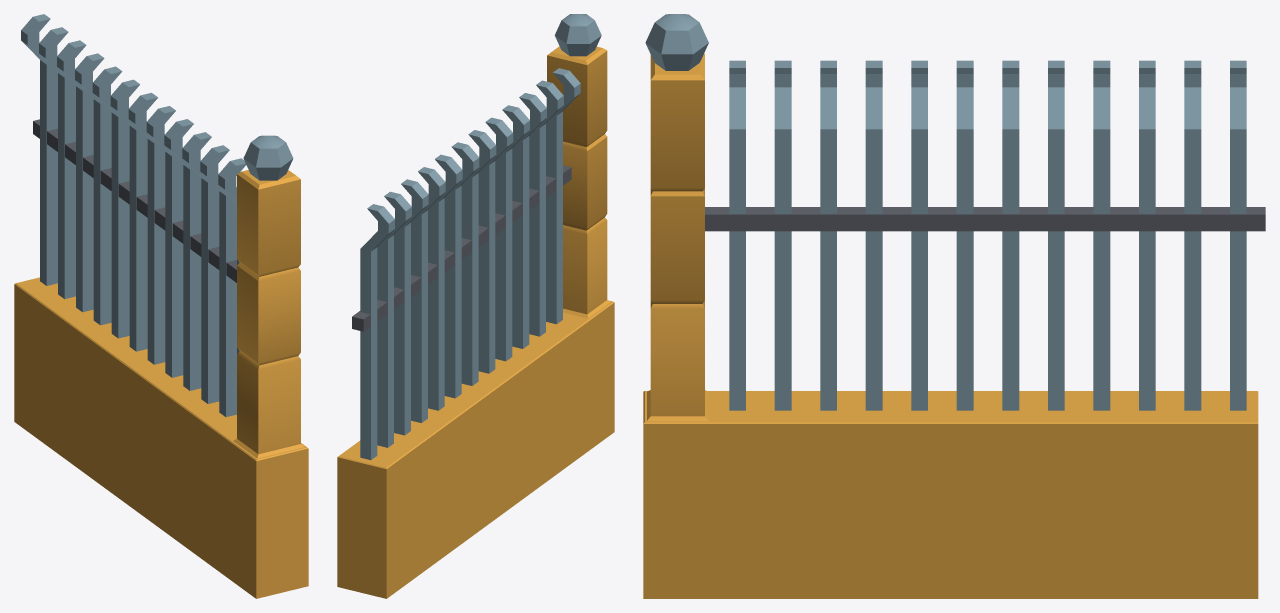
Rendered from metalFence.fbx.
The picture shows the model from 3 angles, left to right: view 1: azimuth 30°, elevation 25°; view 2: azimuth 150°, elevation 25°; view 3: azimuth 270°, elevation 25°; orthographic projection. The views are drawn at different scales.
Visible parts, largest first — view 1: Cube.027, Cube.028, Cube.029, Sphere.003; view 2: Cube.027, Cube.028, Cube.029, Sphere.003; view 3: Cube.027, Cube.028, Cube.029, Sphere.003.
Boxes of the visible parts, x1,y1,x2,y2 form: Cube.027: [14, 170, 308, 598]; Cube.028: [21, 14, 246, 416]; Cube.029: [33, 119, 236, 282]; Sphere.003: [243, 135, 293, 180]; Cube.027: [337, 46, 614, 598]; Cube.028: [360, 68, 580, 460]; Cube.029: [352, 165, 571, 331]; Sphere.003: [554, 14, 601, 56]; Cube.027: [643, 53, 1258, 598]; Cube.028: [729, 60, 1246, 410]; Cube.029: [705, 207, 1265, 231]; Sphere.003: [645, 14, 708, 70].
Size of the model in its own units: 24.97 by 204 by 202.
